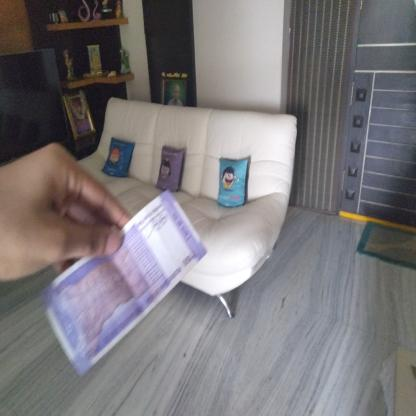New100Back: (53, 189, 202, 362)
